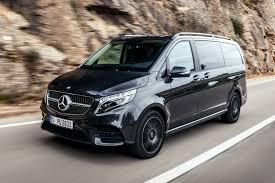mercedes: (57, 92, 72, 113)
